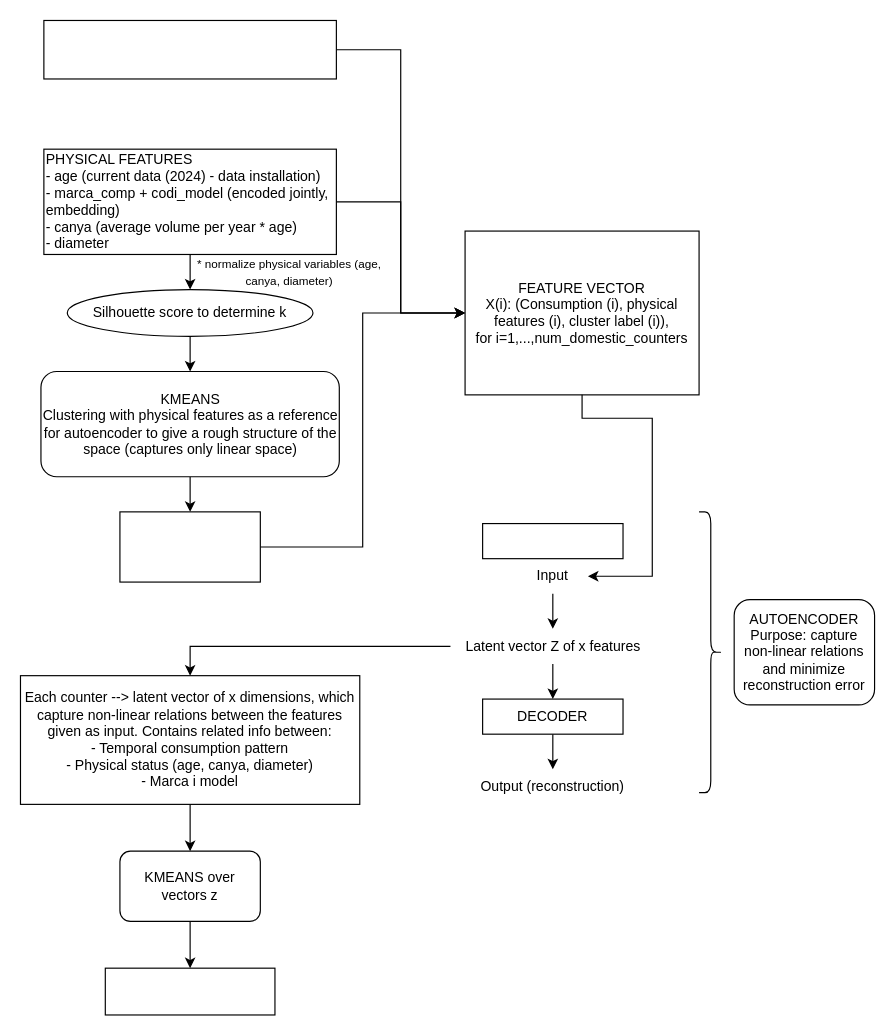
Image size: 895x1035. Some labels were removed from this diagram. Each missing label, with the centre of its shape:
CONSUMPTION 48 features, each representing the average consumption of a month: (x=189, y=49)
ENCODER: (x=552, y=540)
Pseudo-labels: (x=189, y=546)
Risk and subcounting probabilities: (x=189, y=991)
